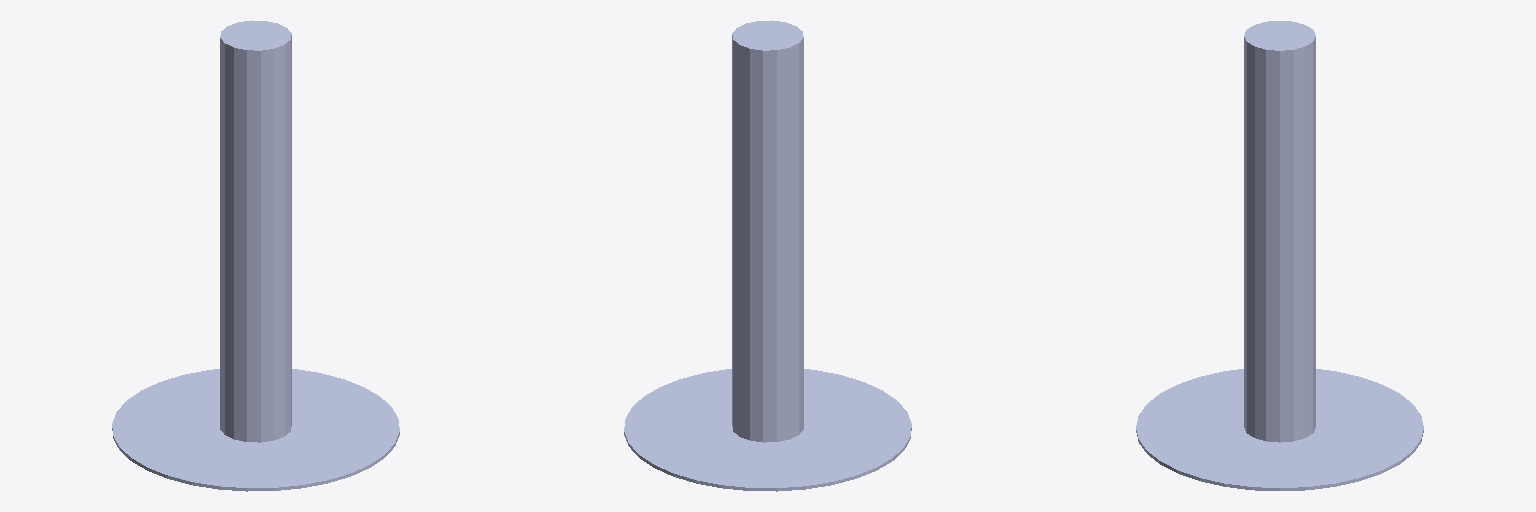
robot.urdf — mounting_d435_v5:
<robot
  name="mounting_d435_v5">
  <link
    name="tripod_link">
    <inertial>
      <origin
        xyz="1.45938641361739E-33 0.0528823529411765 -3.61522582557462E-19"
        rpy="0 0 0" />
      <mass
        value="0.0427256600888212" />
      <inertia
        ixx="0"
        ixy="0"
        ixz="0"
        iyy="0"
        iyz="0"
        izz="0" />
    </inertial>
    <visual>
      <origin
        xyz="0 0 0"
        rpy="0 0 0" />
      <geometry>
        <mesh
          filename="package://mounting_d435_v5/meshes/tripod_link.STL" />
      </geometry>
      <material
        name="">
        <color
          rgba="0.792156862745098 0.819607843137255 0.933333333333333 1" />
      </material>
    </visual>
    <collision>
      <origin
        xyz="0 0 0"
        rpy="0 0 0" />
      <geometry>
        <mesh
          filename="package://mounting_d435_v5/meshes/tripod_link.STL" />
      </geometry>
    </collision>
  </link>
  <link
    name="support_link">
    <inertial>
      <origin
        xyz="-0.00337420801581788 0.159923498872686 -0.0175324291802328"
        rpy="0 0 0" />
      <mass
        value="0.139469499666917" />
      <inertia
        ixx="2.63773207502885E-05"
        ixy="8.45219349955877E-07"
        ixz="8.25069301109476E-06"
        iyy="8.38447623002275E-05"
        iyz="4.17067461832438E-06"
        izz="6.7660425170179E-05" />
    </inertial>
    <visual>
      <origin
        xyz="0 0 0"
        rpy="0 0 0" />
      <geometry>
        <mesh
          filename="package://mounting_d435_v5/meshes/support_link.STL" />
      </geometry>
      <material
        name="">
        <color
          rgba="0.752941176470588 0.752941176470588 0.752941176470588 1" />
      </material>
    </visual>
    <collision>
      <origin
        xyz="0 0 0"
        rpy="0 0 0" />
      <geometry>
        <mesh
          filename="package://mounting_d435_v5/meshes/support_link.STL" />
      </geometry>
    </collision>
  </link>
  <joint
    name="tripod_to_support"
    type="fixed">
    <origin
      xyz="0 0 0"
      rpy="1.5707963267949 0 0" />
    <parent
      link="tripod_link" />
    <child
      link="support_link" />
    <axis
      xyz="0 0 0" />
  </joint>
</robot>

--- What the picture shows (computed from the rendered views, not written in the file) ---
The picture shows the robot from 3 angles, left to right: view 1: azimuth 30°, elevation 25°; view 2: azimuth 150°, elevation 25°; view 3: azimuth 270°, elevation 25°; orthographic projection.
Model mounting_d435_v5 with 2 links and 1 joints (1 fixed), rooted at tripod_link, posed every joint at zero.
Links seen in each view (by area): view 1: tripod_link; view 2: tripod_link; view 3: tripod_link.
Boxes of the visible links, left/top/right/bottom form: tripod_link: left=112, top=20, right=399, bottom=491; tripod_link: left=624, top=20, right=911, bottom=491; tripod_link: left=1136, top=21, right=1423, bottom=490.
Size in the robot's own frame: 0.08 by 0.08 by 0.121 metres.
1 mesh visuals loaded from 2 distinct referenced files (1 binary STL); not drawn: 1 (reference not matched to a file when rendering).